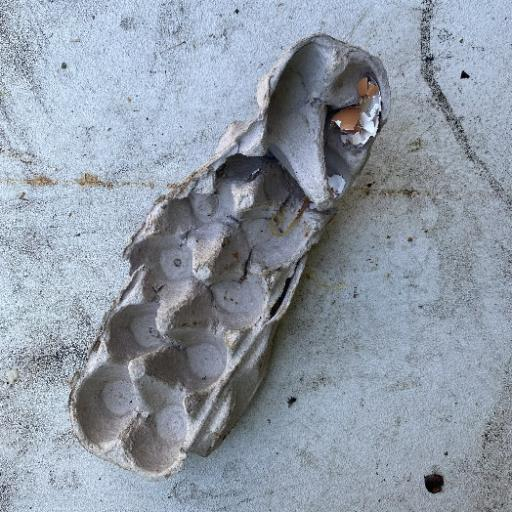Cardboard: (65, 31, 392, 480)
